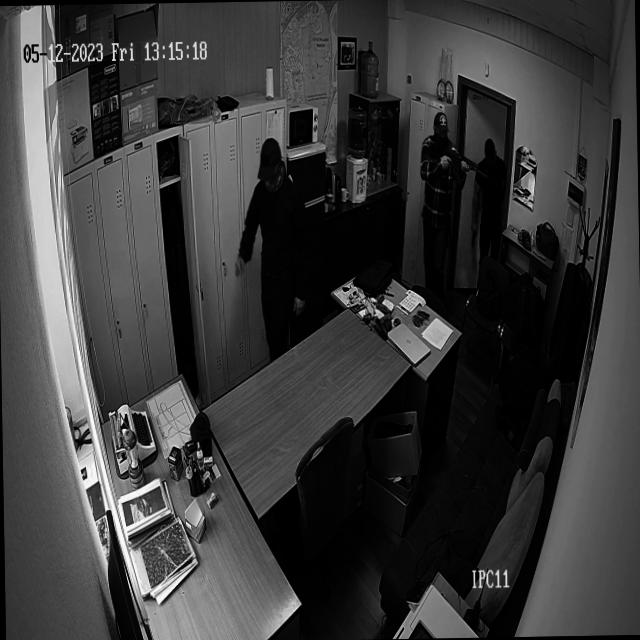gun: (428, 135, 488, 183), (470, 220, 480, 252)
person: (233, 137, 313, 372)
person with a gun: (418, 113, 488, 300), (469, 140, 508, 298)
